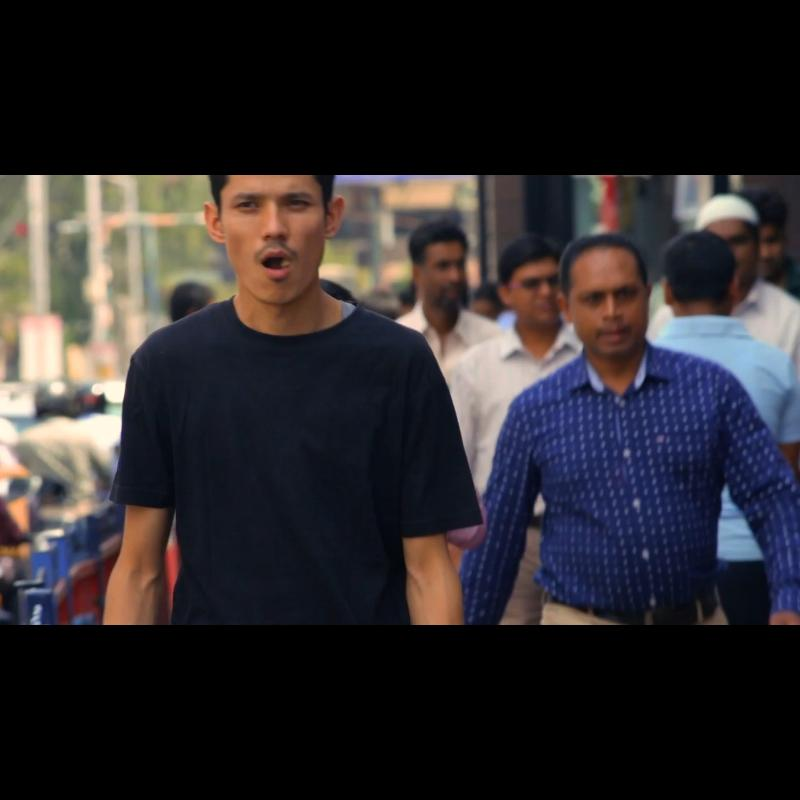Shirt: (464, 346, 800, 625)
Tshirt: (111, 290, 490, 625)
